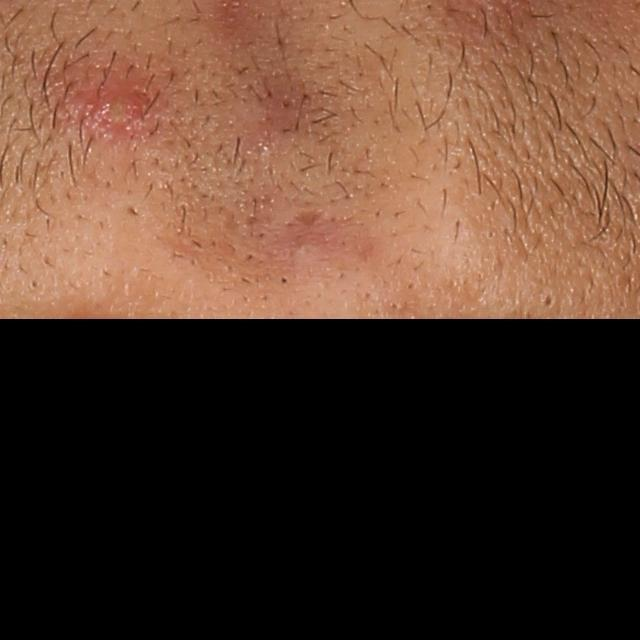comedo: (537, 290, 558, 313)
